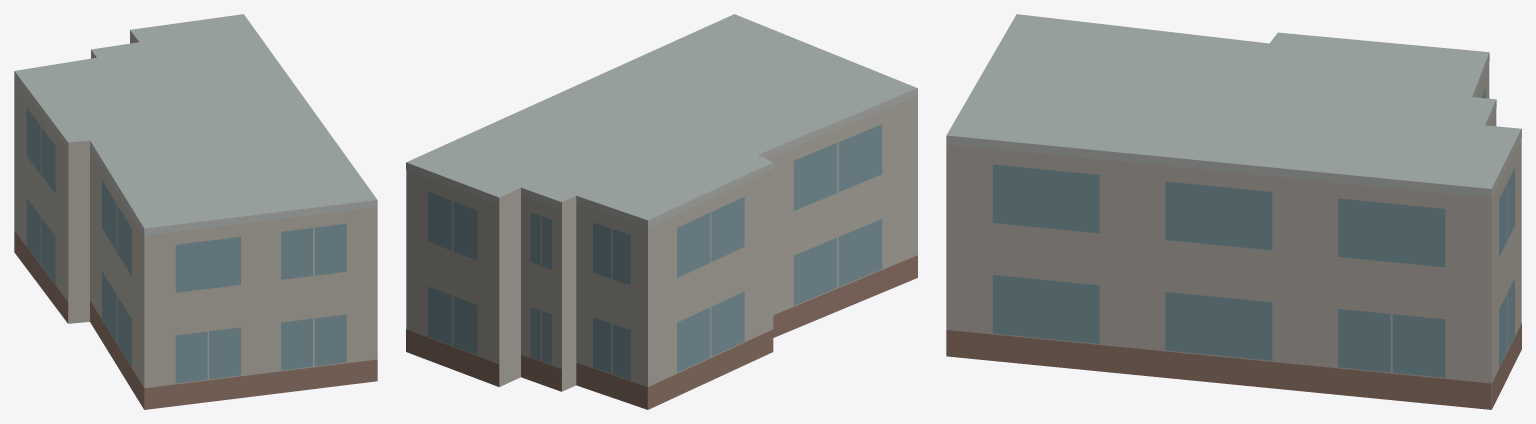
File: survey-upis-32801069.glb
The picture shows the model from 3 angles, left to right: view 1: azimuth 30°, elevation 25°; view 2: azimuth 150°, elevation 25°; view 3: azimuth 270°, elevation 25°; orthographic projection. The views are drawn at different scales.
Visible parts, largest first — view 1: survey-upis-32801069.tmp; view 2: survey-upis-32801069.tmp; view 3: survey-upis-32801069.tmp.
Part boxes in pixels (bbox=[...]): survey-upis-32801069.tmp: bbox=[14, 14, 377, 409]; survey-upis-32801069.tmp: bbox=[406, 14, 917, 409]; survey-upis-32801069.tmp: bbox=[946, 14, 1521, 409].
Bounding box in the file's own units: 10.38 × 6.1 × 14.41.
